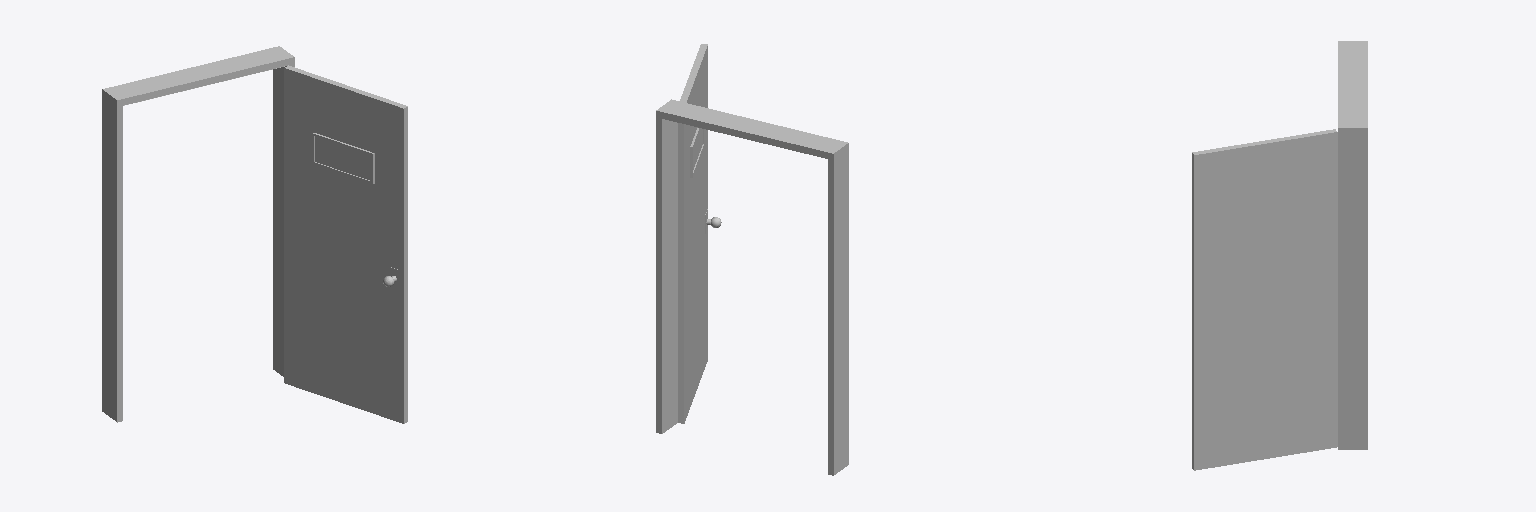
The model's file is SteelDoor2.obj.
3 renders of one model, left to right at view 1: azimuth 30°, elevation 25°; view 2: azimuth 150°, elevation 25°; view 3: azimuth 270°, elevation 25°, orthographic.
Visible parts, largest first — view 1: Cube_Cube.000, Cube_Cube.001; view 2: Cube_Cube.001, Cube_Cube.000; view 3: Cube_Cube.000, Cube_Cube.001.
Part boxes in pixels (x1,y1,x2,y2): Cube_Cube.000: (284,66,407,423); Cube_Cube.001: (102,46,294,422); Cube_Cube.001: (656,99,848,475); Cube_Cube.000: (678,44,721,423); Cube_Cube.000: (1192,129,1337,470); Cube_Cube.001: (1338,41,1367,449).
Size of the model in its own units: 1.59 by 2.23 by 1.11.